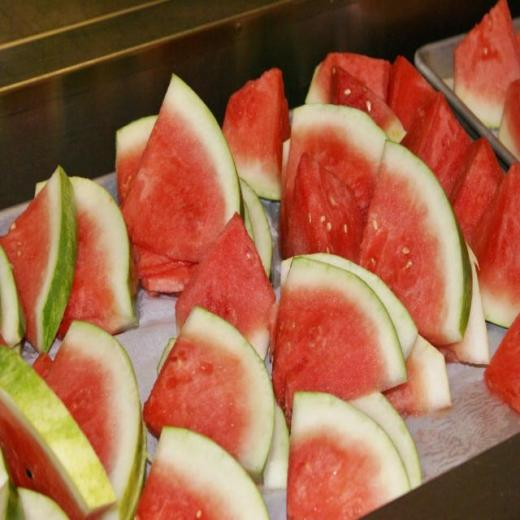Cherry: (0, 0, 519, 519), (353, 118, 476, 354)
